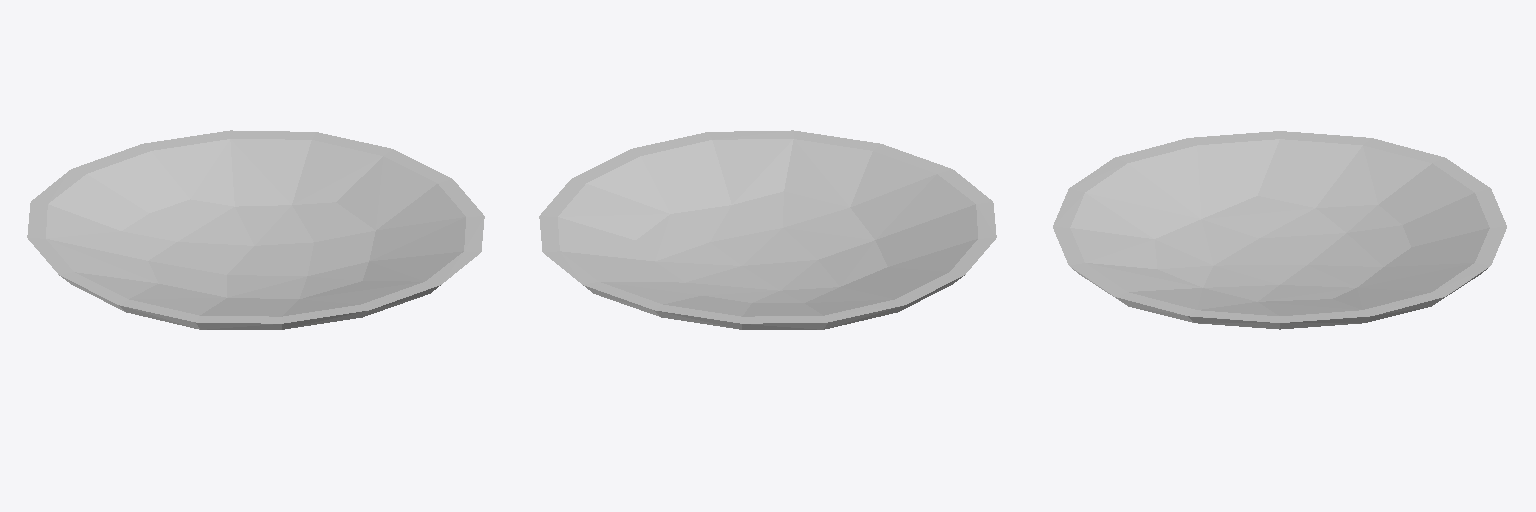
The model's file is Plate.obj.
3 renders of one model, left to right at view 1: azimuth 30°, elevation 25°; view 2: azimuth 150°, elevation 25°; view 3: azimuth 270°, elevation 25°, orthographic.
Parts seen in each view (by area): view 1: Cube; view 2: Cube; view 3: Cube.
Part boxes in pixels (bbox=[...]): Cube: bbox=[27, 130, 484, 329]; Cube: bbox=[539, 130, 996, 329]; Cube: bbox=[1053, 131, 1506, 329].
Bounding box in the file's own units: 4.4 × 0.6172 × 4.4.